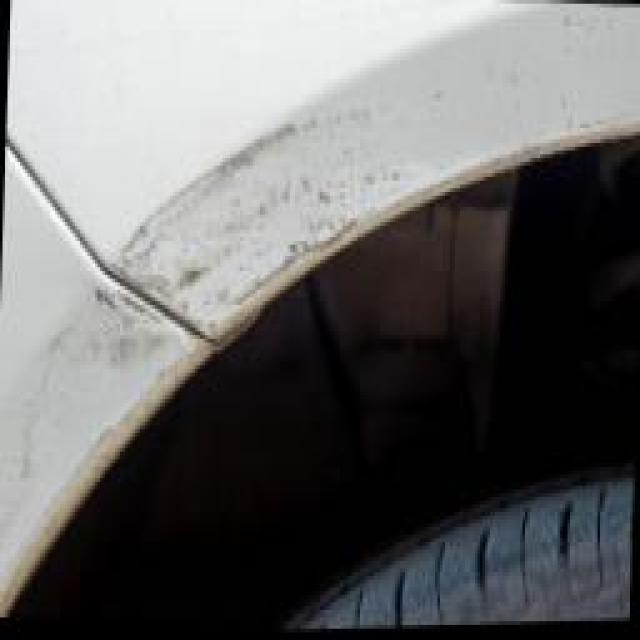Bumper: (0, 301, 168, 509)
Fender: (155, 0, 638, 357)
